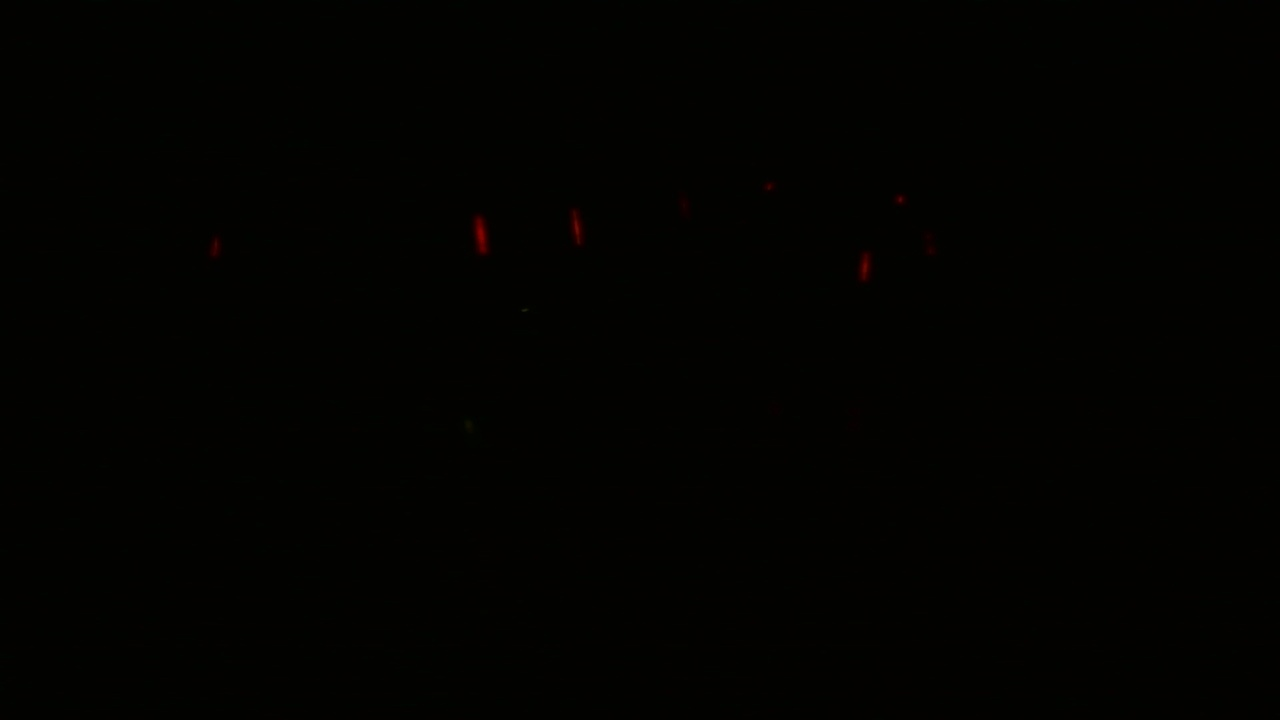pair1: (468, 205, 592, 260)
